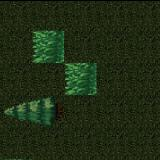Obstacle: (33, 94, 66, 128)
Slow: (33, 29, 65, 62), (66, 62, 96, 94)
